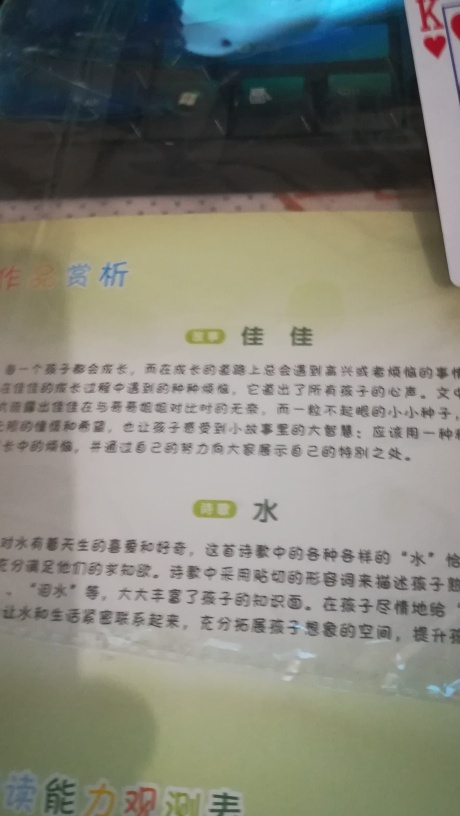hx k: (398, 1, 460, 202)
